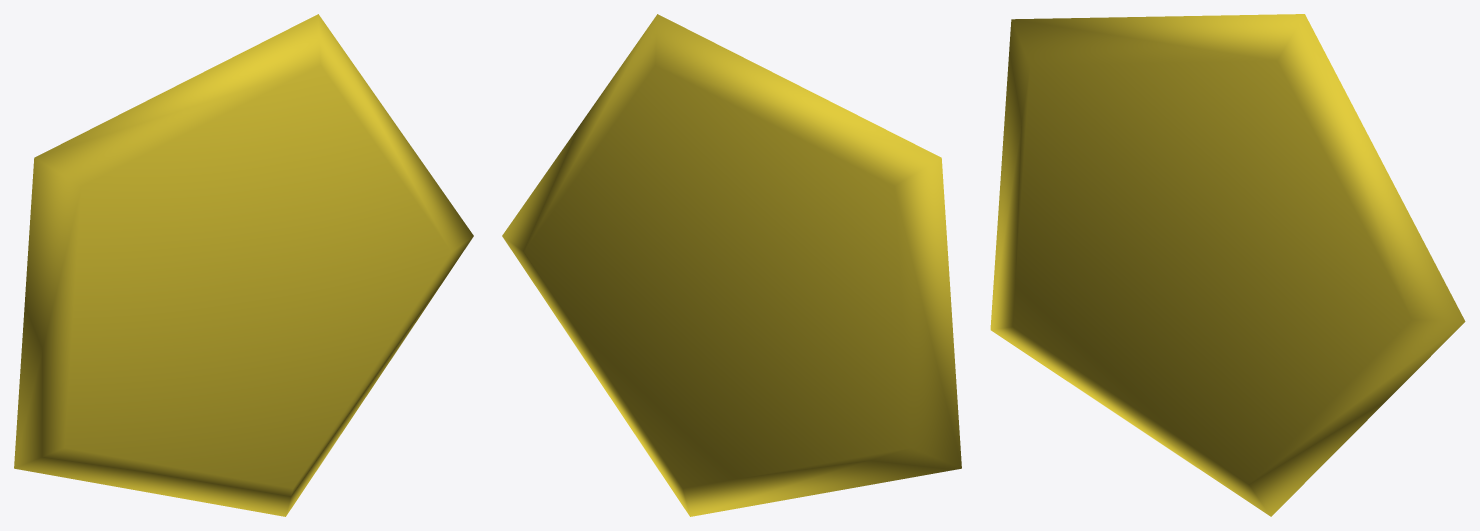
File: stars.fbx
3 renders of one model, left to right at view 1: azimuth 30°, elevation 25°; view 2: azimuth 150°, elevation 25°; view 3: azimuth 330°, elevation 25°, orthographic. The views are drawn at different scales.
Parts seen in each view (by area): view 1: star; view 2: star; view 3: star.
Part boxes in pixels (box(x1,y1,x2,y2)): star: box(14, 14, 473, 516); star: box(502, 14, 961, 516); star: box(990, 14, 1465, 516).
Bounding box in the file's own units: 1.27 × 1.3 × 0.1393.
